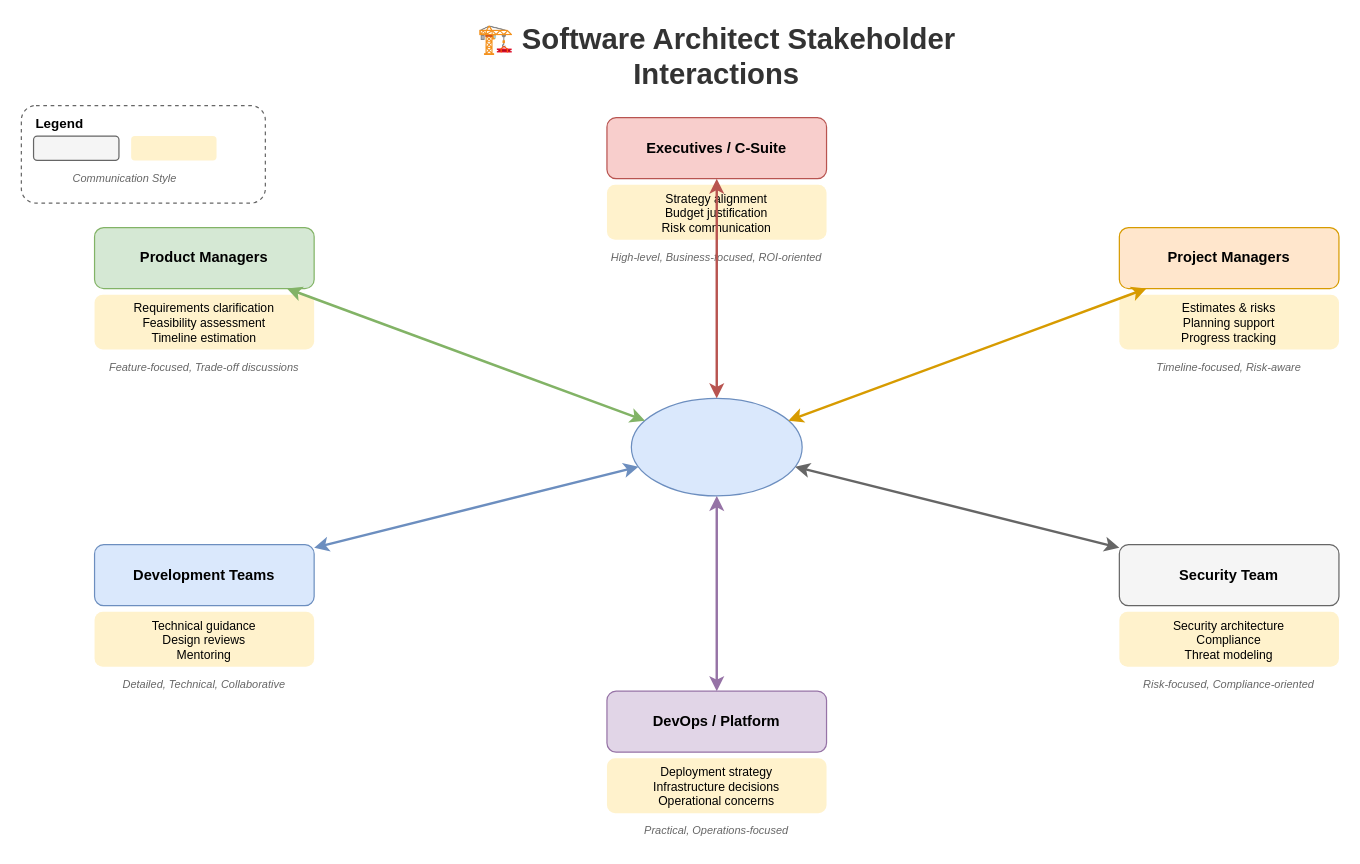
The diagram is 1360 pixels wide and 864 high, and some of its shapes have lost their labels. The shapes that lost their labels are listed below. From the top down, each one's box as (x1, y1, x2, y2) in pixels, then its label:
(32, 135, 119, 160): Stakeholder
(131, 135, 216, 160): Interactions
(630, 397, 802, 496): SOFTWARE ARCHITECT
